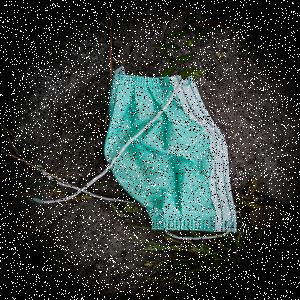Trash: (103, 66, 238, 241)
